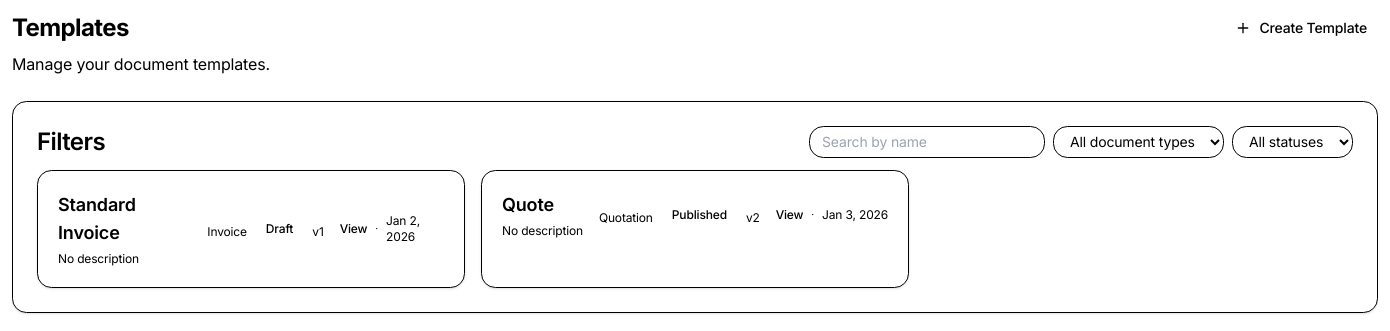
it: Templates dashboard › filters templates by search text
Expected: the link "Standard Invoice" is shown, x1=58 y1=194 x2=136 y2=243
Type "Quote" into the field with placeholder "Search by name". click: (927, 142)
box: x1=809 y1=126 x2=1045 y2=158
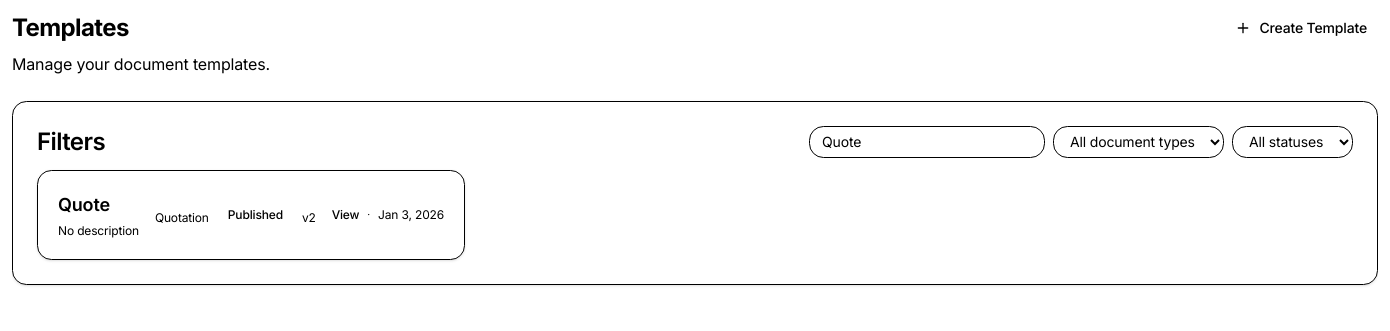
Expected: the link "Quote" is shown, x1=58 y1=194 x2=110 y2=215
Result: the link "Standard Invoice" is gone
